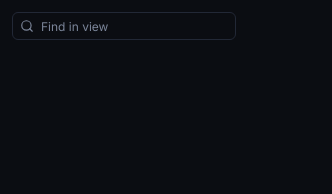
FindInView › picks a result with the keyboard
The width and height of the screenshot is (332, 194).
In the dropdown named "find a node": x=124, y=26 [12,12,236,40], type "claims"
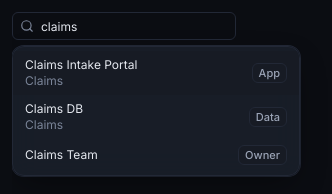
Press ArrowDown in the dropdown named "find a node", box [12,12,236,40]
Press Enter in the dropdown named "find a node", box [12,12,236,40]
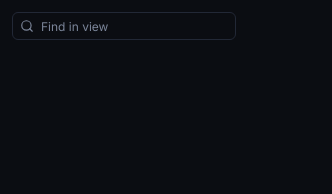
expect the dropdown named "find a node" is empty: met, box [12,12,236,40]
